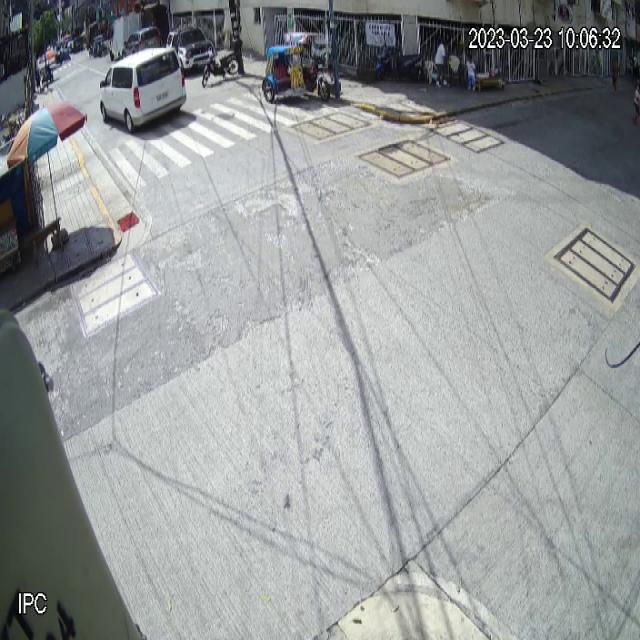Tricycle: (262, 32, 331, 104)
Van: (99, 46, 187, 134)
